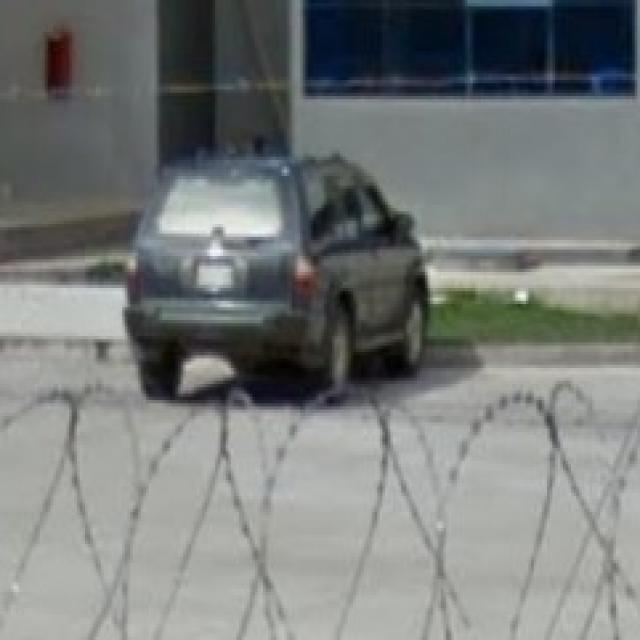cars: (128, 146, 438, 416)
